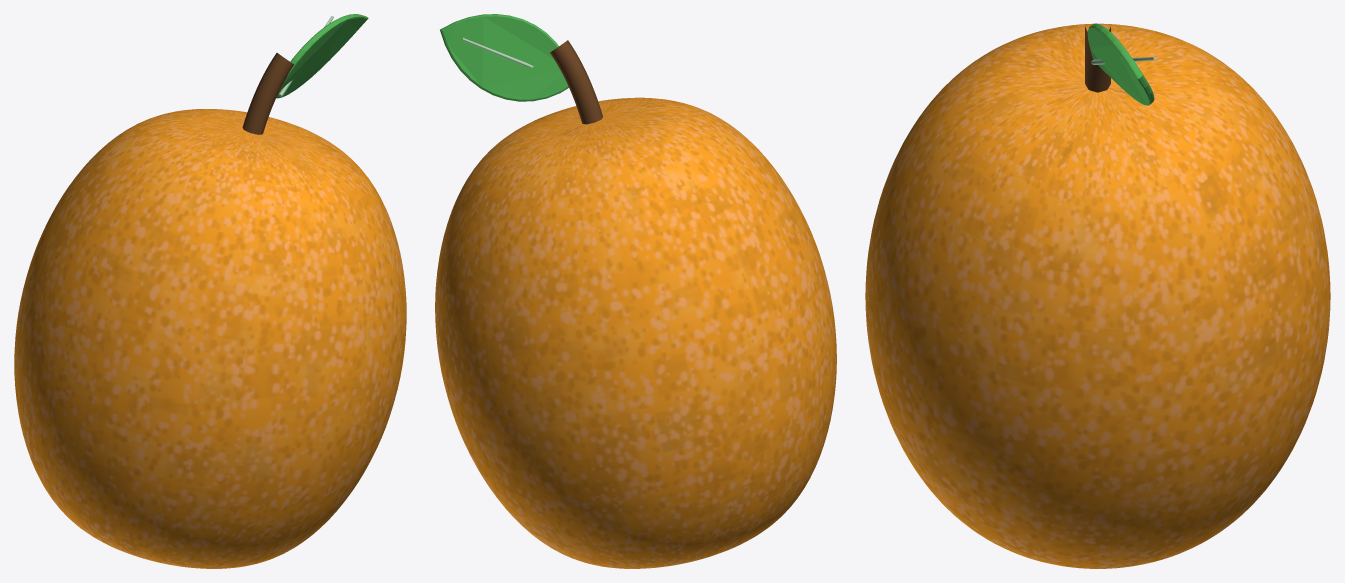
File: kumquat.glb
3 views of the same model, side by side, from view 1: azimuth 30°, elevation 25°; view 2: azimuth 150°, elevation 25°; view 3: azimuth 270°, elevation 25° (orthographic). The views are drawn at different scales.
Bounding box in the file's own units: 0.1128 × 0.1528 × 0.1096.
4 materials, 1 textured.
